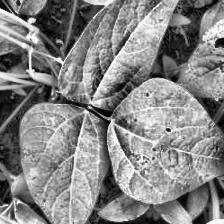ALS: (110, 82, 224, 211), (62, 0, 180, 106), (18, 114, 104, 224), (176, 17, 224, 98)
